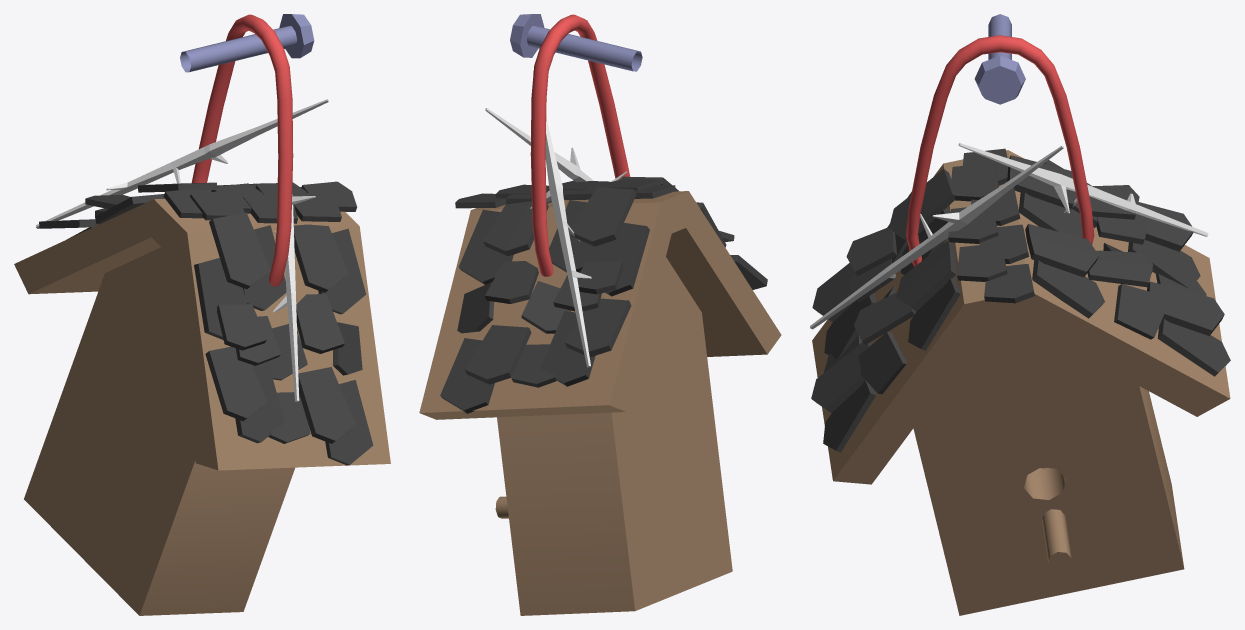
The model's file is SM_Vogelhäuschen.fbx.
3 renders of one model, left to right at view 1: azimuth 30°, elevation 25°; view 2: azimuth 150°, elevation 25°; view 3: azimuth 270°, elevation 25°, orthographic. The views are drawn at different scales.
Parts seen in each view (by area): view 1: Cube, Kacheln.018, Torus, Cylinder.002, Ast.003, Ast.002; view 2: Cube, Kacheln.018, Torus, Cylinder.002, Ast.003, Ast.002; view 3: Cube, Kacheln.018, Torus, Ast.002, Ast.003, Cylinder.002.
Part boxes in pixels (box(x1,y1,x2,y2)): Cube: box(14, 198, 390, 615); Kacheln.018: box(39, 181, 373, 465); Torus: box(191, 14, 293, 286); Cylinder.002: box(180, 14, 314, 72); Ast.003: box(36, 99, 328, 228); Ast.002: box(273, 194, 315, 401); Cube: box(419, 191, 781, 615); Kacheln.018: box(440, 176, 767, 413); Torus: box(530, 14, 630, 276); Cylinder.002: box(510, 14, 642, 71); Ast.003: box(530, 71, 591, 367); Ast.002: box(485, 108, 626, 182); Cube: box(812, 150, 1230, 615); Kacheln.018: box(811, 148, 1230, 452); Torus: box(906, 35, 1094, 266); Ast.002: box(810, 145, 1063, 329); Ast.003: box(958, 143, 1208, 236); Cylinder.002: box(974, 14, 1025, 104).
Bounding box in the file's own units: 520 × 379 × 816.
